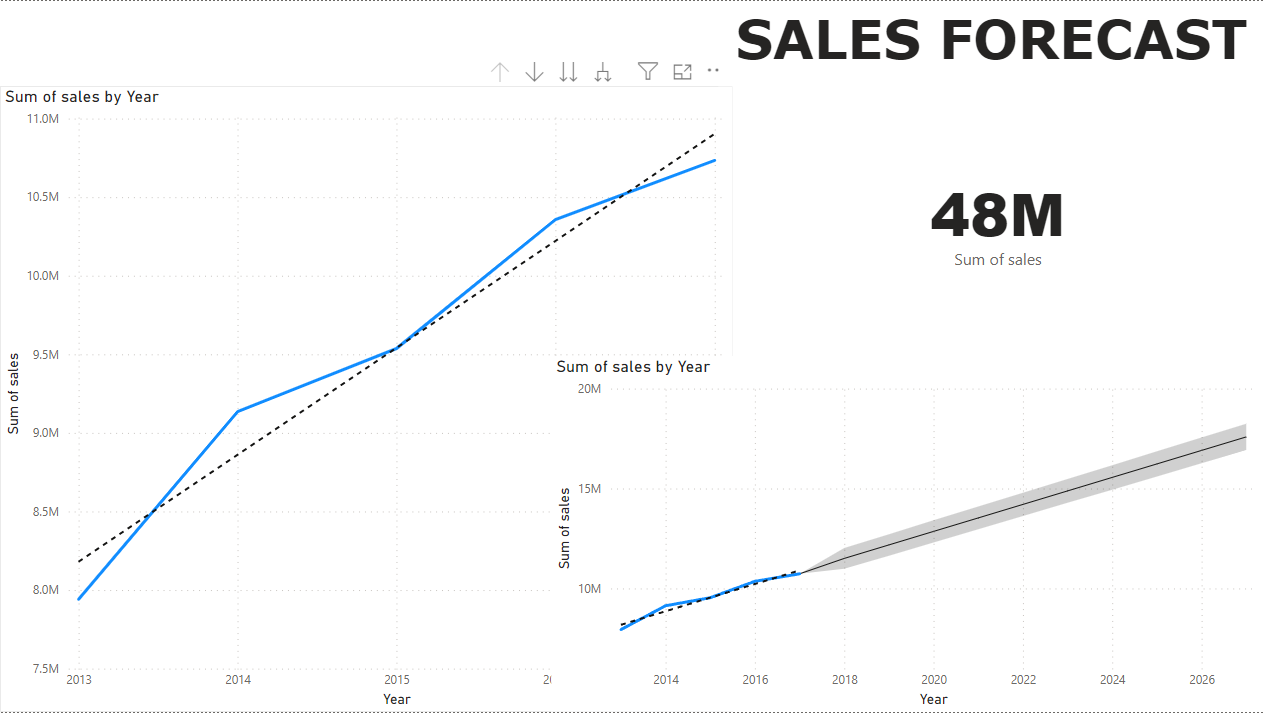

This screenshot's page, from the dashboard's own definition file:
{"tool":"powerbi","page":{"name":"Page 3","canvas":[1280,720],"ordinal":2},"visuals":[{"type":"lineChart","fields":{"Category":["train.date.Variation.Date Hierarchy.Year","train.date.Variation.Date Hierarchy.Quarter","train.date.Variation.Date Hierarchy.Month","train.date.Variation.Date Hierarchy.Day"],"Y":["Sum(train.sales)"]},"box":[0,86,742,634],"z":0},{"type":"lineChart","fields":{"Category":["train.date.Variation.Date Hierarchy.Year","train.date.Variation.Date Hierarchy.Quarter","train.date.Variation.Date Hierarchy.Month","train.date.Variation.Date Hierarchy.Day"],"Y":["Sum(train.sales)"]},"box":[558,360,722,360],"z":1000},{"type":"textbox","box":[728,0,552,86],"z":2000},{"type":"card","fields":{"Values":["Sum(train.sales)"]},"box":[742,86,538,274],"z":3000}]}

Visuals, with their boxes in screenshot pixels (x1, y1, x2, y2), scaled from the page's 1280x720 canvas onto the 1264x713 screenshot:
lineChart - train.date.Variation.Date Hierarchy.Year x train.date.Variation.Date Hierarchy.Quarter: box=[0, 85, 733, 712]
lineChart - train.date.Variation.Date Hierarchy.Year x train.date.Variation.Date Hierarchy.Quarter: box=[551, 356, 1263, 712]
textbox: box=[719, 0, 1263, 85]
card - Sum(train.sales): box=[733, 85, 1263, 356]
